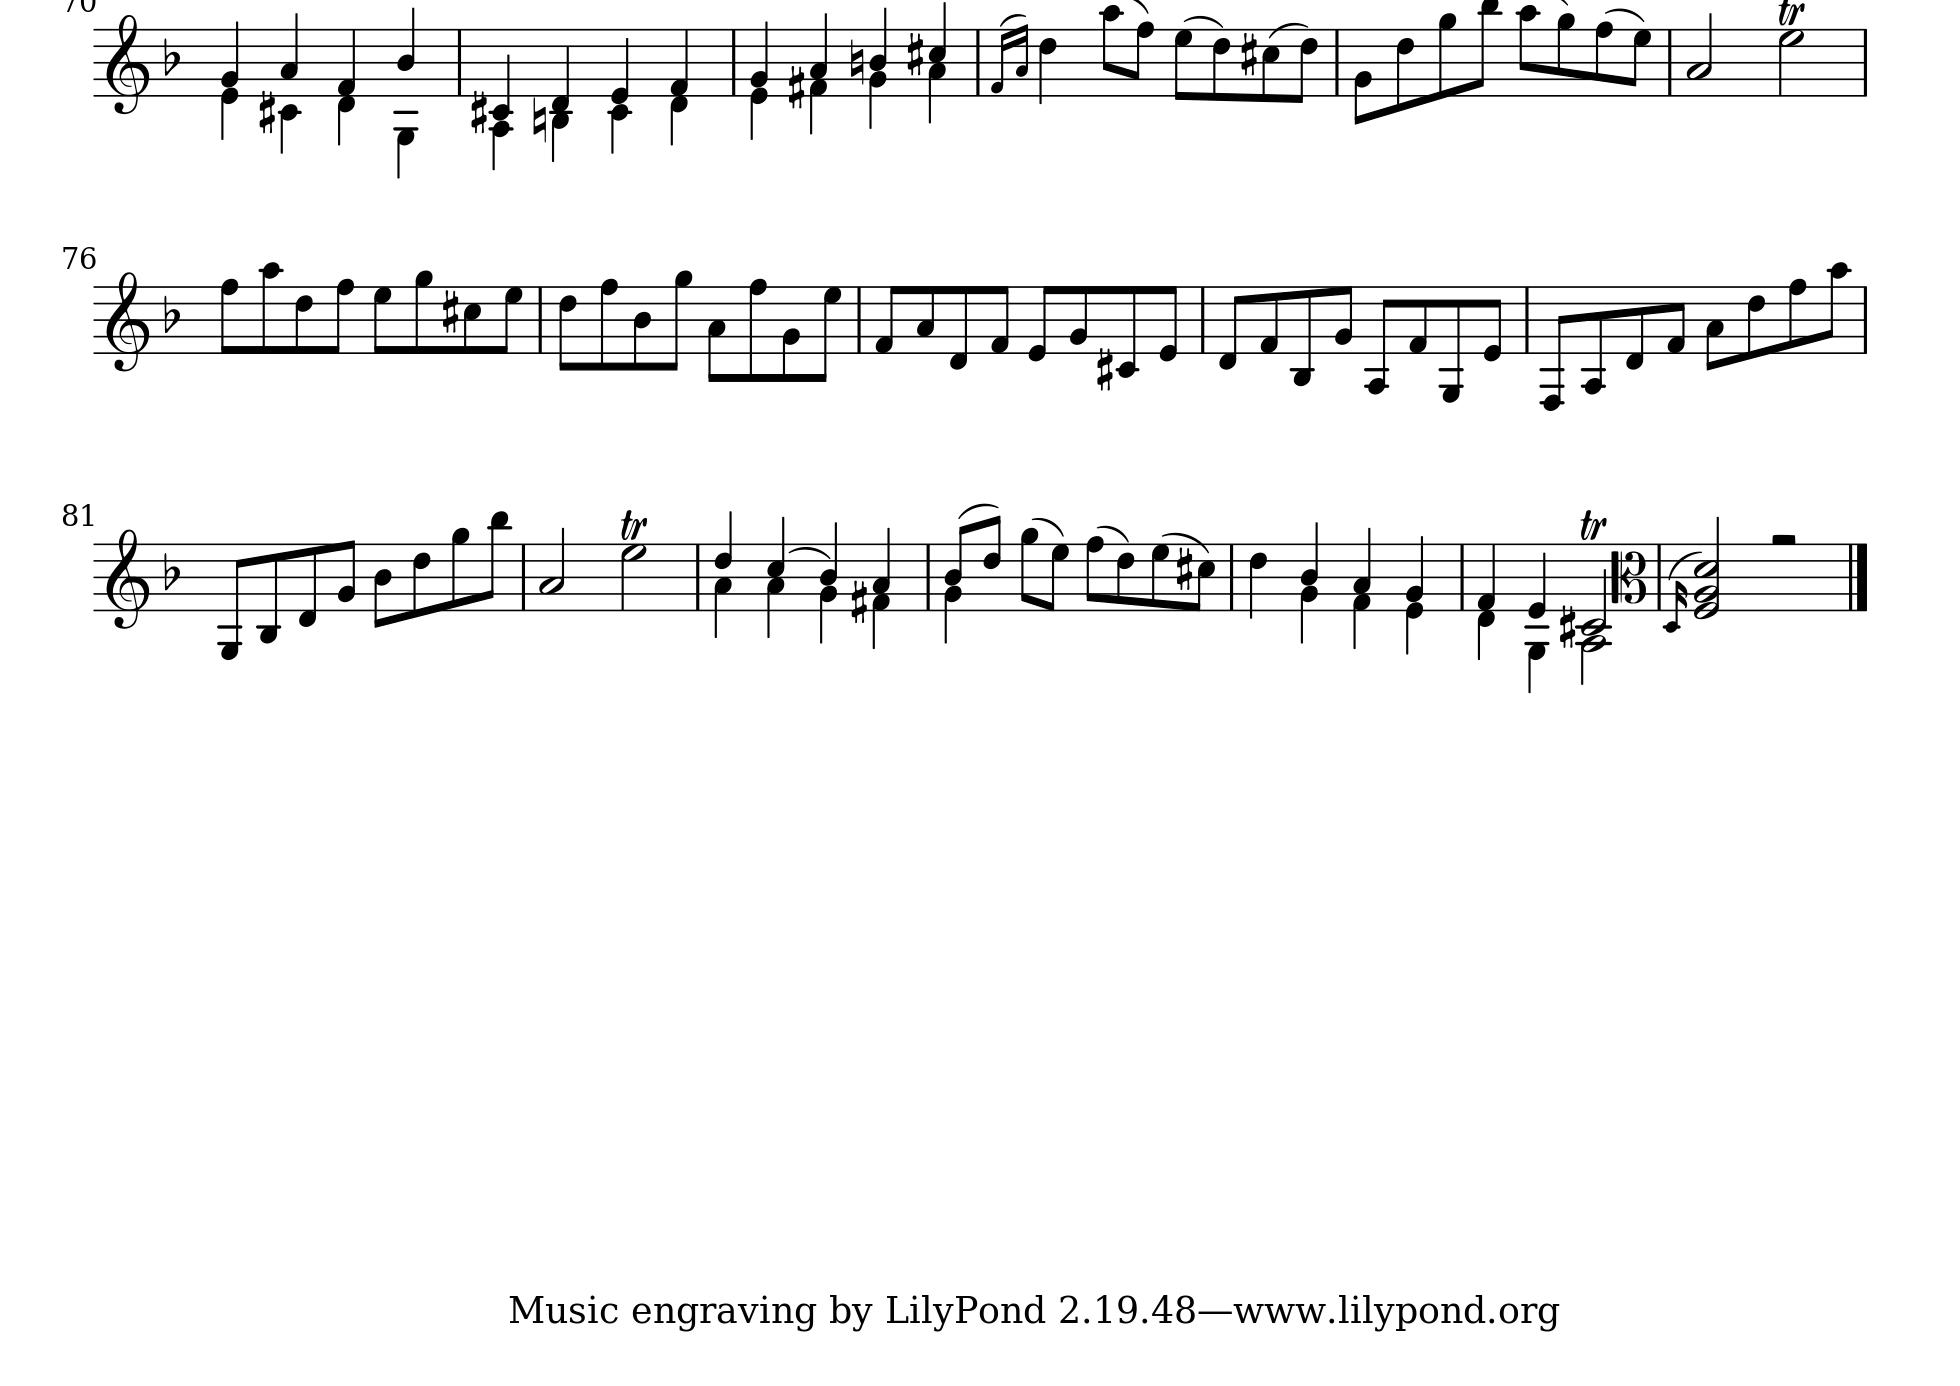1: (79, 499, 94, 529)
2_-4_-2: (1578, 541, 1611, 684)
2_3: (1686, 10, 1714, 99), (537, 525, 565, 613)
2_7: (618, 541, 646, 613), (1776, 27, 1804, 97)
4_-1_1: (667, 27, 691, 147), (334, 27, 357, 147), (1476, 540, 1498, 658)
4_-2_0: (607, 25, 634, 151)
4_-2_3: (277, 10, 301, 156)
4_-3_-1: (550, 27, 573, 162)
4_-4_-2: (490, 25, 514, 171)
4_-5_0: (1524, 541, 1549, 693)
4_-5_4: (393, 6, 415, 180)
4_0_2: (219, 22, 241, 139), (1405, 535, 1426, 655), (750, 22, 769, 142)
4_1_3: (807, 13, 829, 136), (871, 526, 892, 652), (1351, 528, 1372, 649)
4_2_4: (867, 7, 889, 129), (817, 525, 840, 646), (1299, 523, 1321, 645)
4_3_5: (925, 1, 949, 127), (765, 517, 786, 637)
4_3_6: (712, 510, 736, 639)
4_6: (1249, 541, 1272, 622), (1038, 25, 1059, 106)
6: (79, 244, 97, 271)
7: (61, 243, 78, 271)
8: (60, 499, 79, 528)
8_-1: (1215, 283, 1248, 372), (295, 540, 319, 628), (946, 283, 970, 370), (1623, 283, 1647, 370)
8_-2: (1116, 283, 1141, 378)
8_-3: (1290, 283, 1317, 385), (256, 540, 282, 643)
8_-4: (1363, 283, 1395, 396), (1581, 283, 1606, 394)
8_-5: (216, 541, 247, 658), (1438, 283, 1465, 403)
8_-6: (1539, 283, 1569, 411)
8_0: (1024, 283, 1056, 363), (1156, 283, 1180, 364), (1482, 283, 1504, 363)
8_1: (871, 283, 900, 355), (1257, 283, 1281, 355), (988, 283, 1011, 355), (1407, 283, 1429, 355), (1665, 283, 1687, 355)
8_10: (1824, 259, 1851, 355), (1516, 3, 1540, 97), (259, 259, 283, 354), (1099, 4, 1122, 97)
8_11: (480, 508, 511, 615), (1471, 1, 1503, 97)
8_2: (1353, 25, 1374, 126), (780, 283, 801, 382), (1068, 283, 1090, 355), (336, 538, 357, 613), (1333, 283, 1354, 355)
8_3: (705, 283, 727, 384), (1704, 283, 1725, 373), (913, 283, 937, 355), (1194, 543, 1218, 612)
8_4: (370, 541, 393, 630), (631, 283, 652, 370)
8_5: (1260, 25, 1281, 103), (460, 283, 481, 355)
8_6: (1293, 27, 1320, 105), (556, 283, 579, 372), (984, 514, 1003, 613), (1395, 25, 1416, 114), (1744, 283, 1767, 361), (409, 541, 430, 619), (1210, 27, 1231, 103), (292, 283, 313, 355), (1116, 541, 1137, 613)
8_7: (811, 285, 841, 382), (495, 283, 523, 354), (1626, 27, 1653, 97), (1044, 541, 1071, 612), (1173, 27, 1194, 102), (372, 285, 393, 355), (1150, 541, 1170, 613)
8_8: (744, 276, 768, 384), (325, 276, 355, 355), (597, 276, 619, 370), (1129, 19, 1155, 97), (1084, 534, 1108, 613), (1593, 19, 1615, 97), (1786, 276, 1807, 355), (219, 277, 240, 355)
8_9: (661, 268, 693, 372), (1555, 10, 1578, 97), (448, 526, 471, 613), (1437, 12, 1458, 100), (412, 268, 433, 355), (1020, 526, 1038, 613)
Cclef: (1608, 541, 1650, 612)
Final_barline: (1843, 541, 1870, 610)
Flat: (160, 34, 180, 76), (160, 549, 180, 591), (162, 292, 180, 334)
Gclef: (103, 10, 148, 114), (103, 268, 148, 372), (103, 526, 148, 628)
Natural: (529, 94, 547, 145), (847, 36, 865, 85)
Rests2: (1767, 529, 1800, 549)
Sharp: (903, 28, 925, 79), (1239, 28, 1260, 79), (439, 286, 460, 336), (256, 85, 277, 133), (847, 577, 868, 625), (469, 88, 489, 136), (786, 64, 805, 112), (1174, 544, 1194, 592), (1558, 601, 1578, 649), (1095, 346, 1113, 391)
Single_barline: (1857, 28, 1875, 96), (1518, 286, 1536, 352), (724, 28, 741, 94), (970, 28, 987, 94), (532, 286, 549, 352), (1195, 286, 1212, 352), (690, 543, 706, 607), (1224, 543, 1240, 607), (921, 544, 937, 607), (1329, 28, 1344, 96), (1455, 541, 1470, 607), (451, 30, 466, 94), (1651, 544, 1666, 609), (517, 541, 531, 609), (1860, 285, 1872, 354)
Slur: (1161, 529, 1212, 552), (1606, 4, 1645, 22), (1269, 19, 1308, 37), (1032, 516, 1066, 535), (958, 501, 999, 517), (792, 544, 829, 561), (1098, 523, 1131, 541), (1185, 13, 1224, 28), (1120, 1, 1150, 15), (1000, 12, 1026, 27)
Trill: (1578, 505, 1608, 541), (618, 505, 648, 541), (1776, 1, 1806, 27)
